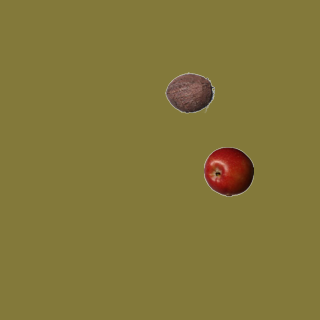Apple Braeburn: (203, 146, 253, 196)
Cocos: (164, 67, 214, 117)
